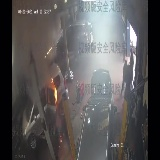fire: (49, 75, 62, 117)
